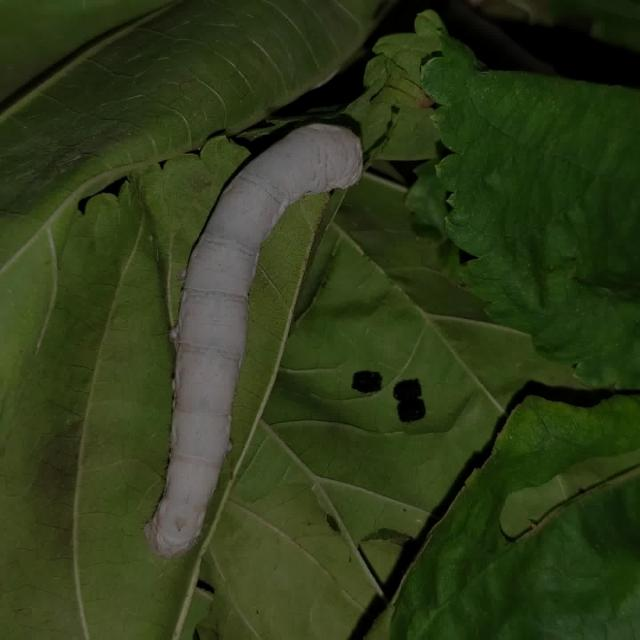Healthy: (136, 108, 366, 558)
